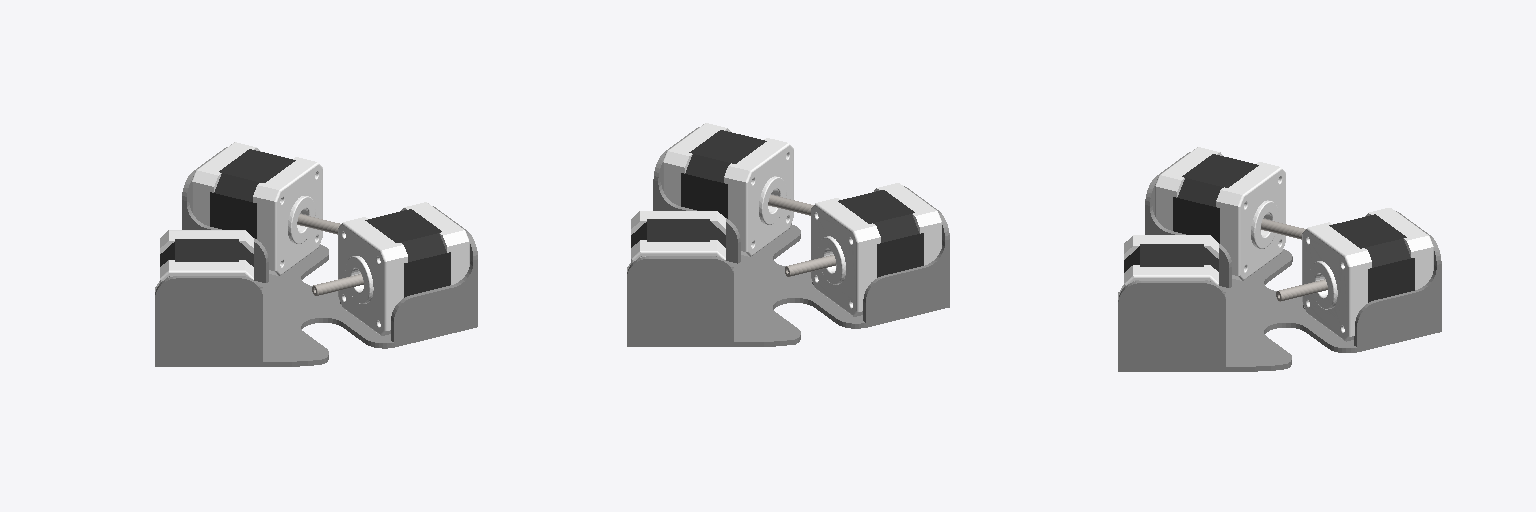
Rendered from platform.obj.
The picture shows the model from 3 angles: view 1: azimuth 30°, elevation 25°; view 2: azimuth 150°, elevation 25°; view 3: azimuth 270°, elevation 25°; orthographic projection.
Visible parts, largest first — view 1: mesh64, mesh66, mesh77, mesh124, mesh12, mesh171, mesh88, mesh122, mesh126, mesh123, mesh125, mesh139 (+6 smaller); view 2: mesh40, mesh66, mesh77, mesh124, mesh61, mesh171, mesh88, mesh122, mesh126, mesh125, mesh123, mesh139 (+6 smaller); view 3: mesh16, mesh66, mesh77, mesh124, mesh36, mesh88, mesh171, mesh122, mesh126, mesh123, mesh125, mesh139 (+6 smaller).
Part boxes in pixels (x1,y1,x2,y2): mesh64: (155,278,291,366); mesh66: (156,244,393,361); mesh77: (277,165,383,333); mesh124: (175,149,441,261); mesh12: (394,259,477,346); mesh171: (169,142,462,269); mesh88: (169,157,402,249); mesh122: (404,252,450,297); mesh126: (210,192,256,238); mesh123: (160,233,446,266); mesh125: (214,173,260,266); mesh139: (297,214,363,295); mesh40: (627,259,763,346); mesh66: (628,225,864,341); mesh77: (748,146,855,314); mesh124: (647,130,914,241); mesh61: (866,239,949,326); mesh171: (640,123,935,250); mesh88: (640,138,875,230); mesh122: (877,233,923,277); mesh126: (681,173,727,218); mesh125: (685,154,730,247); mesh123: (631,214,919,247); mesh139: (768,195,835,276); mesh16: (1118,283,1254,371); mesh66: (1120,249,1356,366); mesh77: (1241,170,1347,338); mesh124: (1140,154,1406,266); mesh36: (1357,264,1441,351); mesh88: (1133,162,1366,255); mesh171: (1133,147,1427,274); mesh122: (1368,258,1414,302); mesh126: (1173,197,1219,243); mesh123: (1124,239,1410,272); mesh125: (1177,178,1223,271); mesh139: (1261,219,1327,300).
Bounding box in the file's own units: 0.1457 × 0.0458 × 0.1441.